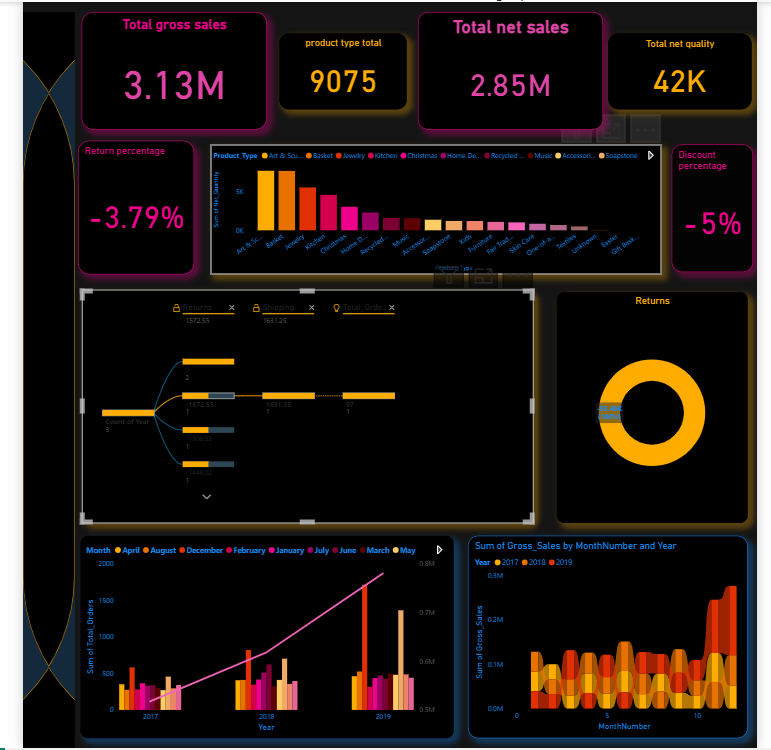

Layout of this report page (visuals, bound fields, positions):
{"tool":"powerbi","page":{"name":"Page 1","canvas":[1280,1300],"ordinal":0},"visuals":[{"type":"shape","box":[0,17.5,90,1282.5],"z":0},{"type":"columnChart","fields":{"Category":["ProductSales.Product_Type"],"Y":["Sum(ProductSales.Net_Quantity)"],"Series":["ProductSales.Product_Type"]},"box":[326.7,248.3,786.4,226.5],"z":4000},{"type":"card","title":"Total net sales","fields":{"Values":["Sum(ProductSales.Total_Net_Sales)"]},"box":[687.5,17.5,322.5,205],"z":5000},{"type":"card","title":"Total net quality","fields":{"Values":["Sum(ProductSales.Net_Quantity)"]},"box":[1020,55,250,132.5],"z":6000},{"type":"card","title":"product type total ","fields":{"Values":["CountNonNull(ProductSales.Product_Type)"]},"box":[447.5,55,222.5,132.5],"z":7000},{"type":"lineClusteredColumnComboChart","title":" Total Orders and  Total Sales by  Month,  and Year","fields":{"Category":["SummarySales.Year"],"Y":["Sum(SummarySales.Total_Orders)"],"Y2":["Sum(SummarySales.Total_Sales)"],"Series":["SummarySales.Month"]},"box":[100,930,650,352.5],"z":8000},{"type":"donutChart","title":"Returns","fields":{"Y":["Sum(SummarySales.Returns)"]},"box":[930,505,332.5,402.5],"z":9000},{"type":"decompositionTreeVisual","fields":{"Analyze":["Count(SummarySales.Year)"],"ExplainBy":["SummarySales.Returns","SummarySales.Shipping","SummarySales.Total_Orders"]},"box":[102.5,500,787.5,407.5],"z":10000},{"type":"ribbonChart","fields":{"Category":["SummarySales.MonthNumber"],"Series":["SummarySales.Year"],"Y":["Sum(SummarySales.Gross_Sales)"]},"box":[775,930,487.5,352.5],"z":11000},{"type":"card","title":"Total gross sales","fields":{"Values":["Sum(ProductSales.Gross_Sales)"]},"box":[102.5,17.5,322.5,205],"z":13000},{"type":"card","title":"Discount  percentage","fields":{"Values":["ProductSales.TOTAL DICUNT PRT"]},"box":[1130.5,248.3,141.6,222.2],"z":14000},{"type":"card","title":"Return percentage","fields":{"Values":["ProductSales.TOTAL RETURN PRT"]},"box":[95.8,241.8,202.6,233.1],"z":15000}]}

Visuals, with their boxes on the page's 1280x1300 design canvas (x1, y1, x2, y2). These are canvas units, not pixel positions in the 771x750 screenshot, which may show the page scaled, cropped or inside an application window:
shape: bbox=(0, 18, 90, 1300)
columnChart - ProductSales.Product_Type x Sum(ProductSales.Net_Quantity): bbox=(327, 248, 1113, 475)
"Total net sales" card: bbox=(688, 18, 1010, 222)
"Total net quality" card: bbox=(1020, 55, 1270, 188)
"product type total " card: bbox=(448, 55, 670, 188)
" Total Orders and  Total Sales by  Month,  and Year" lineClusteredColumnComboChart: bbox=(100, 930, 750, 1282)
"Returns" donutChart: bbox=(930, 505, 1262, 908)
decompositionTreeVisual - Count(SummarySales.Year) x SummarySales.Returns: bbox=(102, 500, 890, 908)
ribbonChart - SummarySales.MonthNumber x SummarySales.Year: bbox=(775, 930, 1262, 1282)
"Total gross sales" card: bbox=(102, 18, 425, 222)
"Discount  percentage" card: bbox=(1130, 248, 1272, 470)
"Return percentage" card: bbox=(96, 242, 298, 475)
